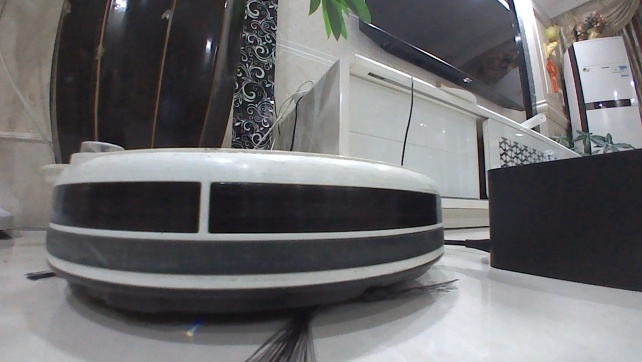TV_stand: (277, 46, 583, 229)
wire: (0, 40, 57, 153), (251, 76, 318, 150)
